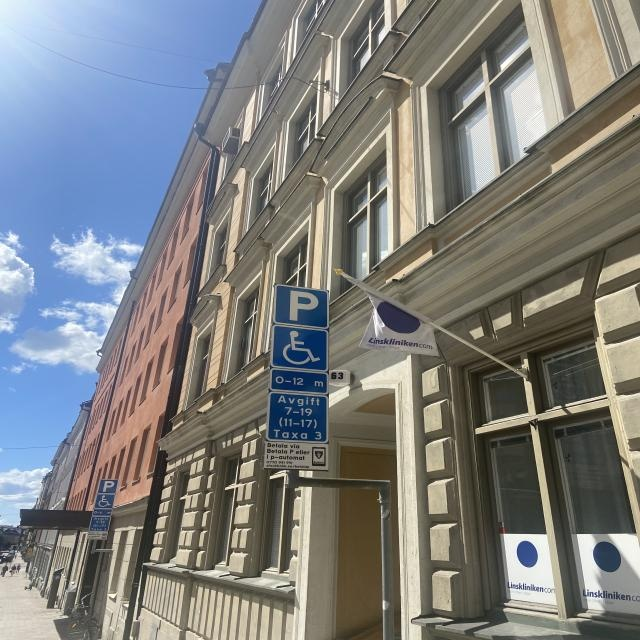P-skylt: (274, 284, 328, 330)
